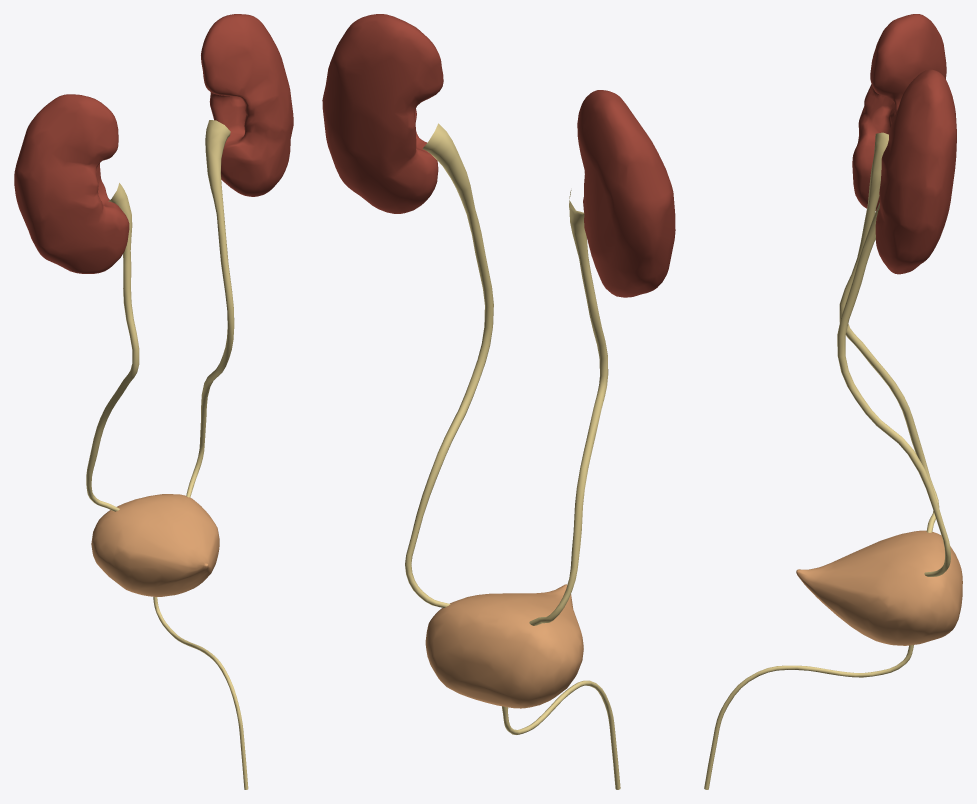
The model's file is urinary.glb.
3 renders of one model, left to right at view 1: azimuth 30°, elevation 25°; view 2: azimuth 150°, elevation 25°; view 3: azimuth 270°, elevation 25°, orthographic. The views are drawn at different scales.
Visible parts, largest first — view 1: kidney-right, kidney-left, urinary-bladder, ureter-left, ureter-right, urethra; view 2: kidney-left, kidney-right, urinary-bladder, ureter-left, ureter-right, urethra; view 3: urinary-bladder, kidney-left, kidney-right, ureter-left, ureter-right, urethra.
Boxes of the visible parts, box(x1,y1,x2,y2) form: kidney-right: box(14, 94, 129, 273); kidney-left: box(201, 14, 293, 196); urinary-bladder: box(91, 494, 219, 596); ureter-left: box(186, 120, 234, 497); ureter-right: box(86, 183, 139, 511); urethra: box(153, 597, 248, 789); kidney-left: box(322, 14, 443, 213); kidney-right: box(577, 90, 675, 297); urinary-bladder: box(425, 584, 583, 708); ureter-left: box(405, 123, 493, 607); ureter-right: box(529, 190, 608, 625); urethra: box(502, 680, 620, 789); urinary-bladder: box(796, 530, 962, 645); kidney-left: box(875, 69, 956, 274); kidney-right: box(852, 14, 946, 210); ureter-left: box(837, 202, 950, 576); ureter-right: box(839, 132, 939, 532); urethra: box(704, 645, 913, 789).
Bounding box in the file's own units: 0.178 × 0.4203 × 0.1293.
